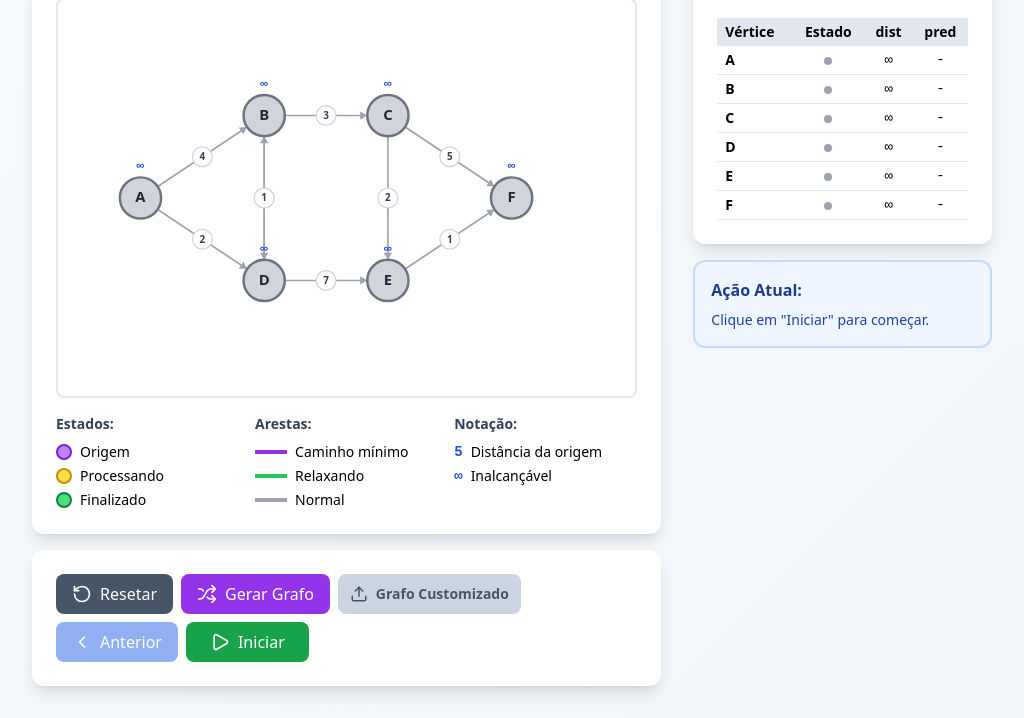
DijkstraSimulator Integration › should reset simulation
(page scrolled)
Click the button with test id "start-button". click: [247, 642]
box: [186, 622, 309, 662]
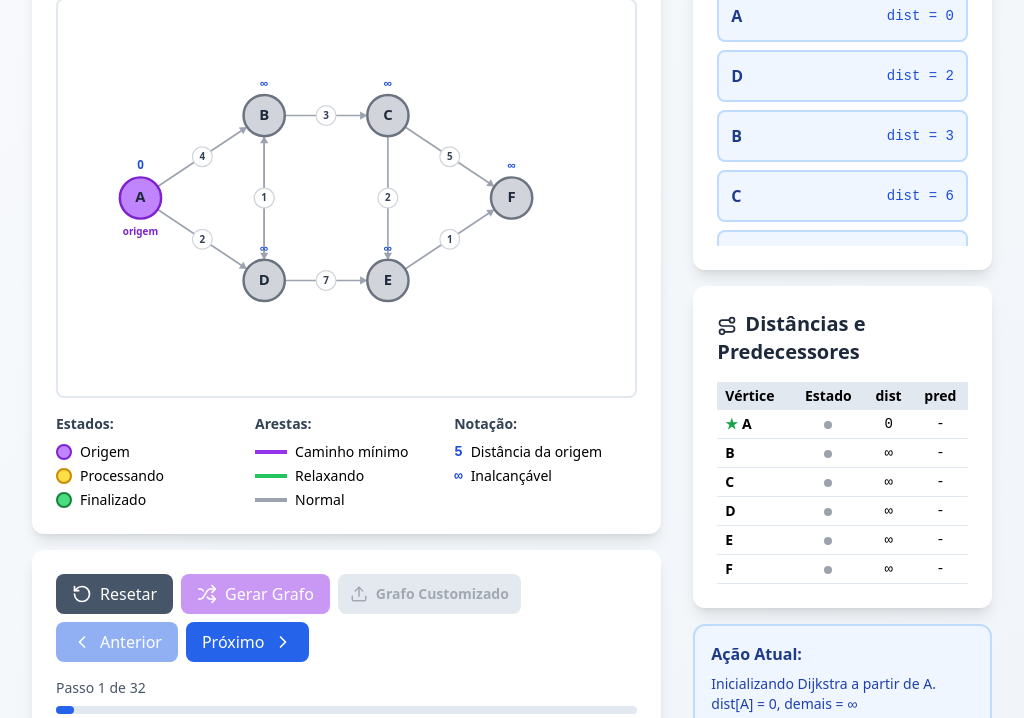
Click the button with test id "reset-button". click: [114, 594]
box: [56, 574, 173, 614]
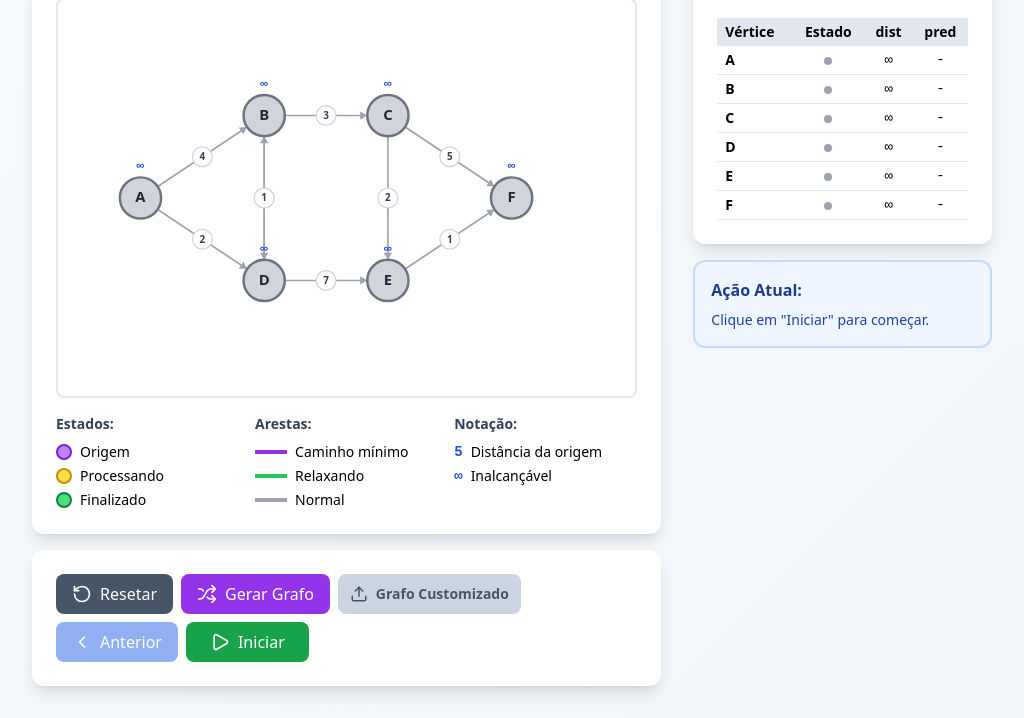
Expected: the button with test id "start-button" is shown, [186, 622, 309, 662]
